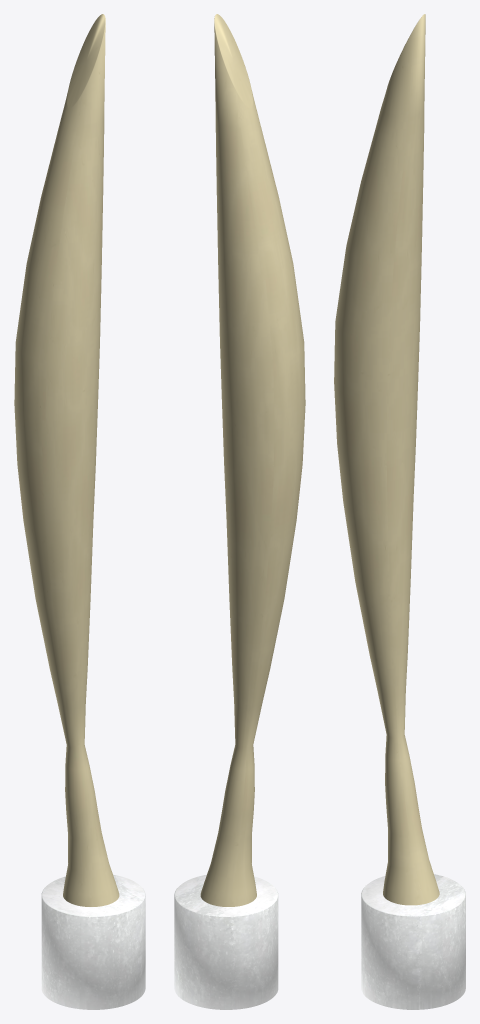
File: preview.glb
3 renders of one model, left to right at view 1: azimuth 30°, elevation 25°; view 2: azimuth 150°, elevation 25°; view 3: azimuth 330°, elevation 25°, orthographic.
Visible parts, largest first — view 1: Object_2, Object_3; view 2: Object_2, Object_3; view 3: Object_2, Object_3.
Part boxes in pixels (<box>): Object_2: <box>14,14,119,906</box>; Object_3: <box>41,874,145,1009</box>; Object_2: <box>200,14,305,906</box>; Object_3: <box>174,874,278,1009</box>; Object_2: <box>334,14,439,905</box>; Object_3: <box>361,874,465,1009</box>.
Size of the model in its own units: 1.87 by 14.62 by 1.42.
Materials: 2 (2 with a texture image).
